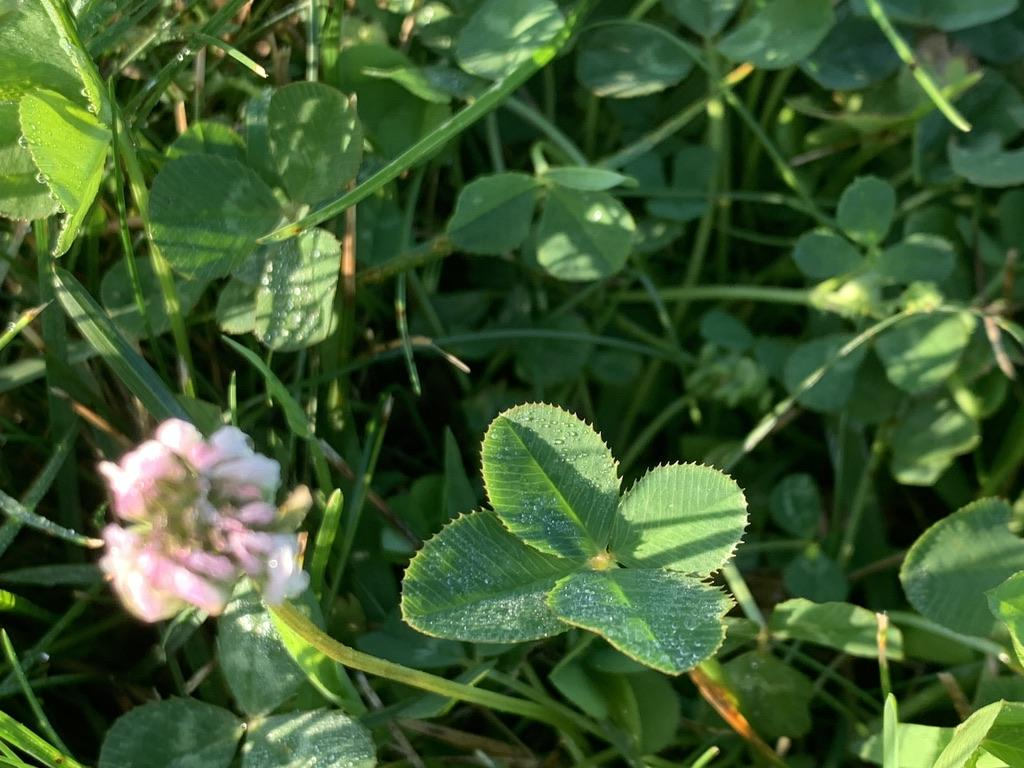4-Leaf-Clovers: (403, 400, 746, 674)
